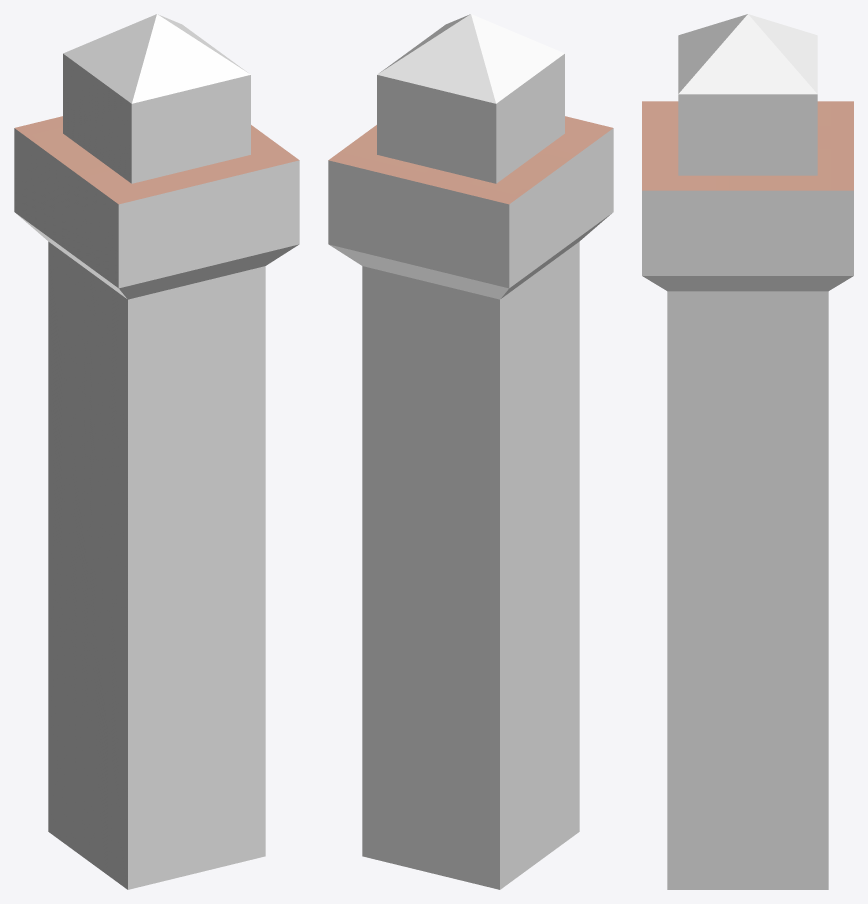
Rendered from Building_1.fbx.
The picture shows the model from 3 angles, left to right: view 1: azimuth 30°, elevation 25°; view 2: azimuth 150°, elevation 25°; view 3: azimuth 270°, elevation 25°; orthographic projection.
Parts seen in each view (by area): view 1: Cube.012; view 2: Cube.012; view 3: Cube.012.
Boxes of the visible parts, x1,y1,x2,y2 form: Cube.012: (14,14,299,889); Cube.012: (328,14,613,889); Cube.012: (642,14,853,889).
Size of the model in its own units: 204 by 894 by 204.
